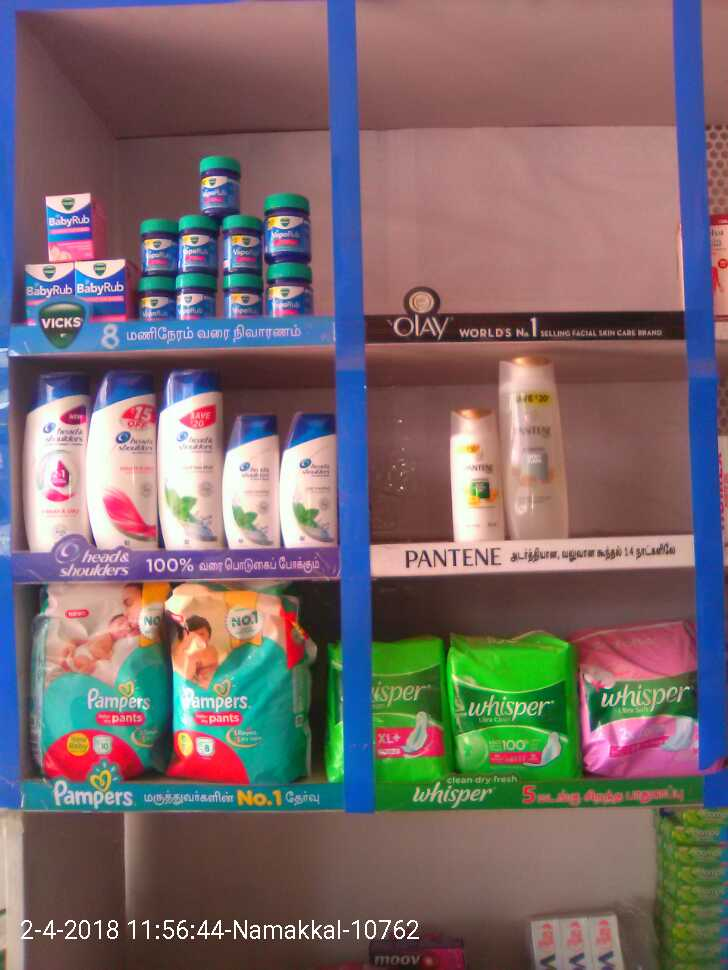vicks: (45, 194, 109, 256), (74, 259, 131, 318), (268, 263, 316, 323), (269, 194, 310, 262), (26, 264, 73, 323), (196, 157, 238, 211), (175, 217, 218, 269), (222, 215, 260, 270), (173, 275, 216, 318), (224, 274, 260, 322), (141, 215, 173, 269), (138, 275, 173, 323)
